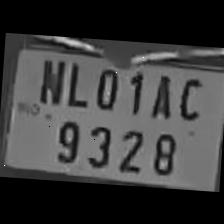0: (89, 58, 121, 110)
1: (120, 64, 147, 118)
2: (113, 122, 146, 174)
3: (81, 118, 113, 168)
8: (146, 124, 178, 176)
9: (50, 113, 82, 165)
A: (144, 66, 176, 121)
C: (174, 68, 206, 124)
L: (62, 54, 90, 109)
N: (34, 52, 66, 107)
